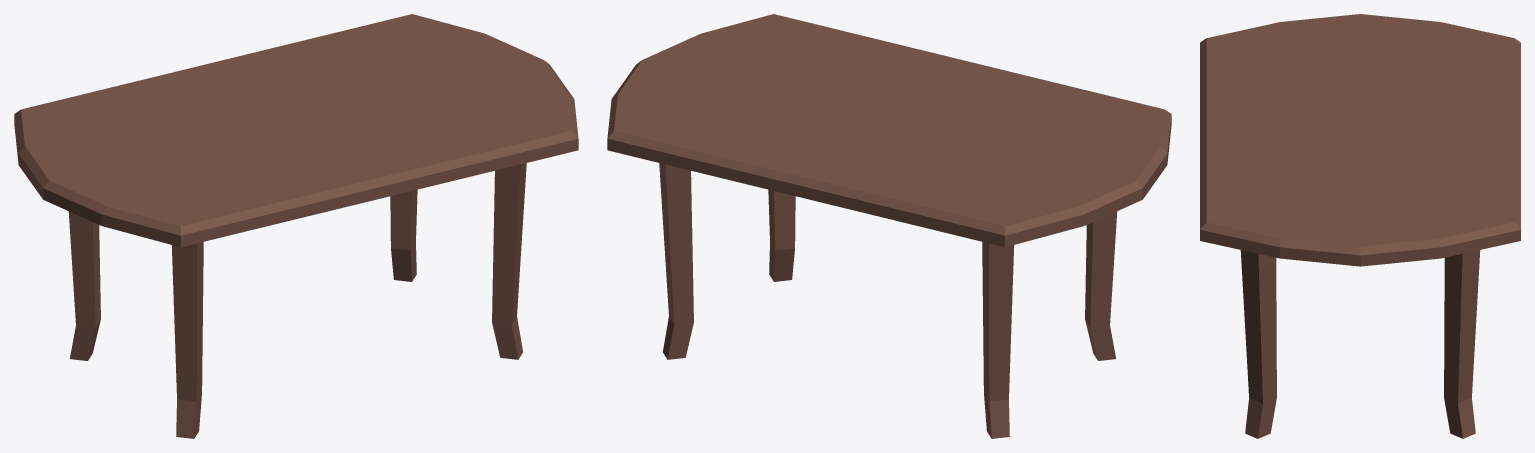
Rendered from table-by-jeremy-93snYMCAMEb.glb.
The picture shows the model from 3 angles, left to right: view 1: azimuth 30°, elevation 25°; view 2: azimuth 150°, elevation 25°; view 3: azimuth 270°, elevation 25°; orthographic projection. The views are drawn at different scales.
Parts seen in each view (by area): view 1: Table_Cube.028; view 2: Table_Cube.028; view 3: Table_Cube.028.
Part boxes in pixels (x1,y1,x2,y2): Table_Cube.028: (14,14,578,438); Table_Cube.028: (607,14,1171,438); Table_Cube.028: (1200,14,1520,438).
Size of the model in its own units: 21.91 by 9.73 by 12.47.
